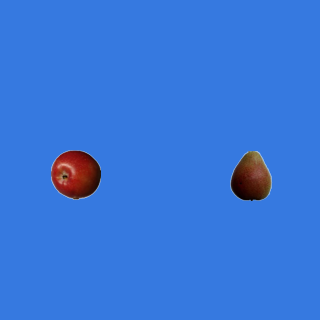Apple Braeburn: (50, 149, 100, 199)
Pear Forelle: (225, 150, 275, 200)
